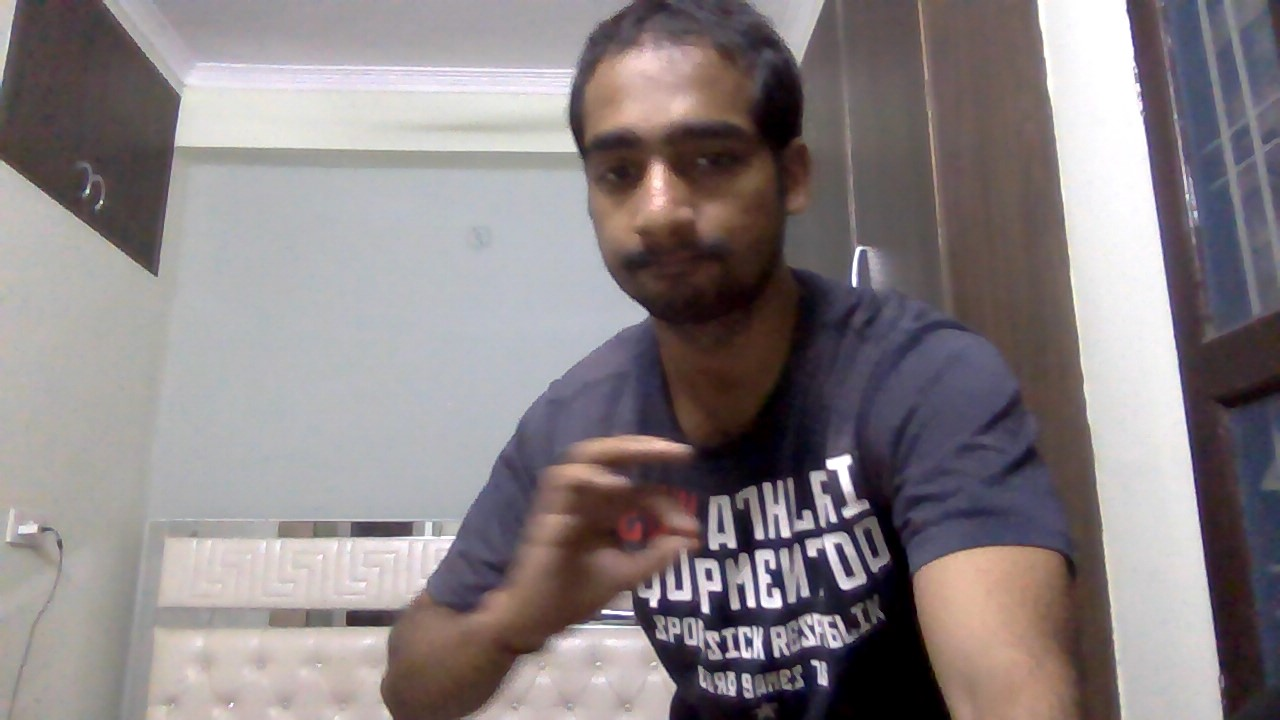Copy: (500, 424, 710, 664)
